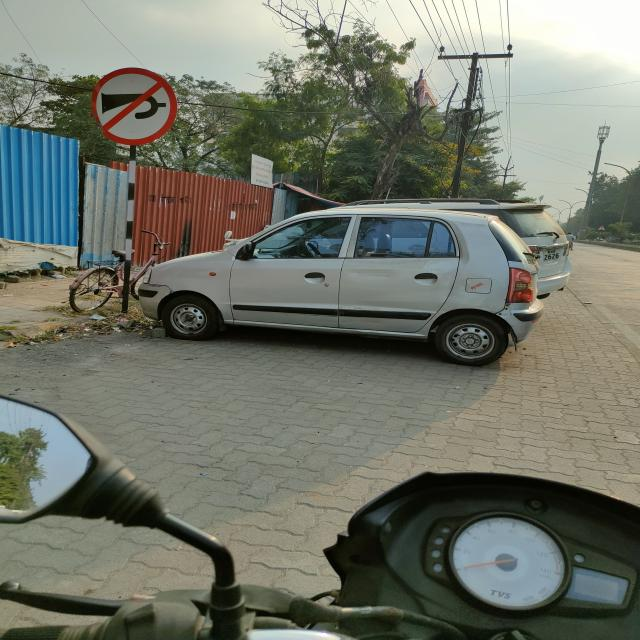HORN_PROHIBITED: (91, 66, 178, 146)
